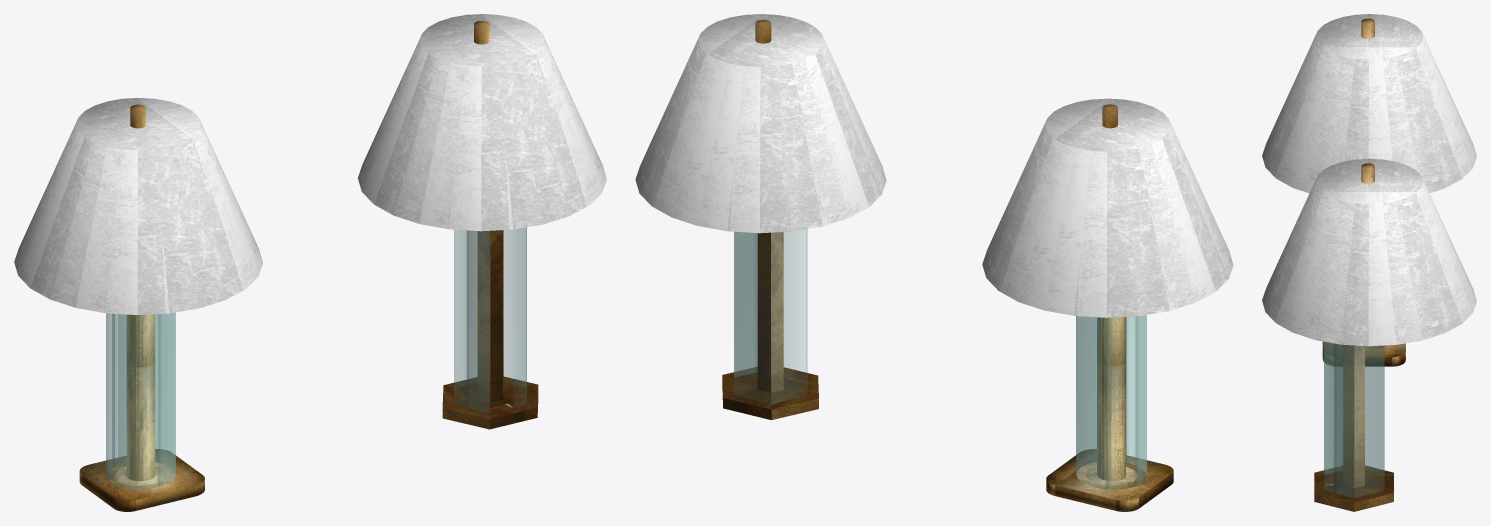
File: table-lamps.glb
3 views of the same model, side by side, from view 1: azimuth 30°, elevation 25°; view 2: azimuth 150°, elevation 25°; view 3: azimuth 270°, elevation 25° (orthographic). The views are drawn at different scales.
Parts seen in each view (by area): view 1: Material2.002, Material2.001, Material2; view 2: Material2.002, Material2.001, Material2; view 3: Material2.002, Material2.001, Material2.
Boxes of the visible parts, left/top/right/bottom form: Material2.002: left=14, top=14, right=606, bottom=314; Material2.001: left=106, top=227, right=526, bottom=489; Material2: left=79, top=21, right=538, bottom=511; Material2.002: left=635, top=14, right=1233, bottom=317; Material2.001: left=734, top=229, right=1146, bottom=489; Material2: left=722, top=19, right=1173, bottom=511; Material2.002: left=1262, top=14, right=1476, bottom=346; Material2.001: left=1324, top=341, right=1386, bottom=497; Material2: left=1314, top=18, right=1405, bottom=511.
Size of the model in its own units: 0.8543 by 0.55 by 0.3294.
Materials: 4 (3 with a texture image).
